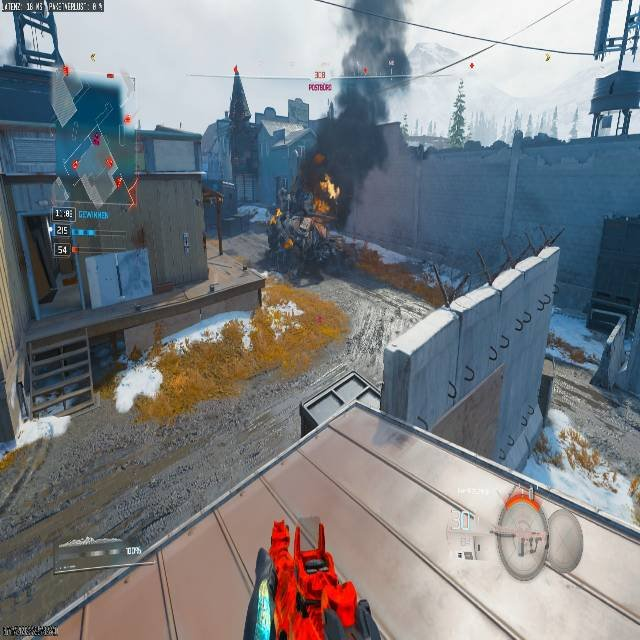player: (108, 357, 164, 418), (449, 86, 469, 136)
